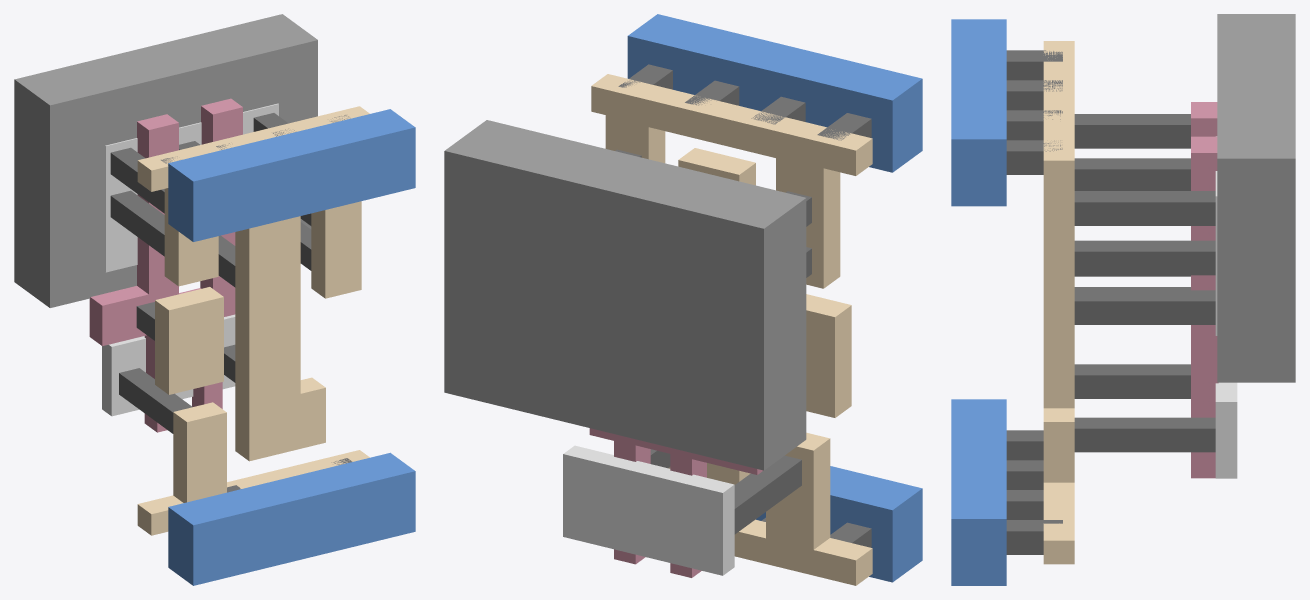
The model's file is sky130_fd_sc_hd__clkinvlp_2.gds.gltf.
3 renders of one model, left to right at view 1: azimuth 30°, elevation 25°; view 2: azimuth 150°, elevation 25°; view 3: azimuth 270°, elevation 25°, orthographic. The views are drawn at different scales.
Visible parts, largest first — view 1: sky130_fd_sc_hd__clkinvlp_2_li1, sky130_fd_sc_hd__clkinvlp_2_met1, sky130_fd_sc_hd__clkinvlp_2_nwell, sky130_fd_sc_hd__clkinvlp_2_poly, sky130_fd_sc_hd__clkinvlp_2_licon, sky130_fd_sc_hd__clkinvlp_2_diff; view 2: sky130_fd_sc_hd__clkinvlp_2_nwell, sky130_fd_sc_hd__clkinvlp_2_li1, sky130_fd_sc_hd__clkinvlp_2_met1, sky130_fd_sc_hd__clkinvlp_2_diff, sky130_fd_sc_hd__clkinvlp_2_mcon, sky130_fd_sc_hd__clkinvlp_2_licon, sky130_fd_sc_hd__clkinvlp_2_poly; view 3: sky130_fd_sc_hd__clkinvlp_2_licon, sky130_fd_sc_hd__clkinvlp_2_nwell, sky130_fd_sc_hd__clkinvlp_2_met1, sky130_fd_sc_hd__clkinvlp_2_li1, sky130_fd_sc_hd__clkinvlp_2_mcon, sky130_fd_sc_hd__clkinvlp_2_poly, sky130_fd_sc_hd__clkinvlp_2_diff.
Part boxes in pixels (bbox=[...]): sky130_fd_sc_hd__clkinvlp_2_li1: bbox=[137, 106, 369, 535]; sky130_fd_sc_hd__clkinvlp_2_met1: bbox=[168, 109, 415, 585]; sky130_fd_sc_hd__clkinvlp_2_nwell: bbox=[14, 14, 317, 307]; sky130_fd_sc_hd__clkinvlp_2_poly: bbox=[89, 98, 242, 432]; sky130_fd_sc_hd__clkinvlp_2_licon: bbox=[110, 113, 311, 433]; sky130_fd_sc_hd__clkinvlp_2_diff: bbox=[102, 103, 278, 416]; sky130_fd_sc_hd__clkinvlp_2_nwell: bbox=[444, 120, 806, 470]; sky130_fd_sc_hd__clkinvlp_2_li1: bbox=[591, 74, 872, 585]; sky130_fd_sc_hd__clkinvlp_2_met1: bbox=[627, 14, 922, 582]; sky130_fd_sc_hd__clkinvlp_2_diff: bbox=[563, 445, 734, 575]; sky130_fd_sc_hd__clkinvlp_2_mcon: bbox=[618, 64, 871, 547]; sky130_fd_sc_hd__clkinvlp_2_licon: bbox=[615, 149, 811, 534]; sky130_fd_sc_hd__clkinvlp_2_poly: bbox=[589, 428, 763, 577]; sky130_fd_sc_hd__clkinvlp_2_licon: bbox=[1074, 114, 1215, 452]; sky130_fd_sc_hd__clkinvlp_2_nwell: bbox=[1217, 14, 1295, 382]; sky130_fd_sc_hd__clkinvlp_2_met1: bbox=[951, 19, 1006, 585]; sky130_fd_sc_hd__clkinvlp_2_li1: bbox=[1043, 41, 1074, 564]; sky130_fd_sc_hd__clkinvlp_2_mcon: bbox=[1006, 50, 1062, 554]; sky130_fd_sc_hd__clkinvlp_2_poly: bbox=[1191, 102, 1218, 478]; sky130_fd_sc_hd__clkinvlp_2_diff: bbox=[1215, 136, 1237, 478].
Size of the model in its own units: 2.22 by 3.2 by 2.24.
